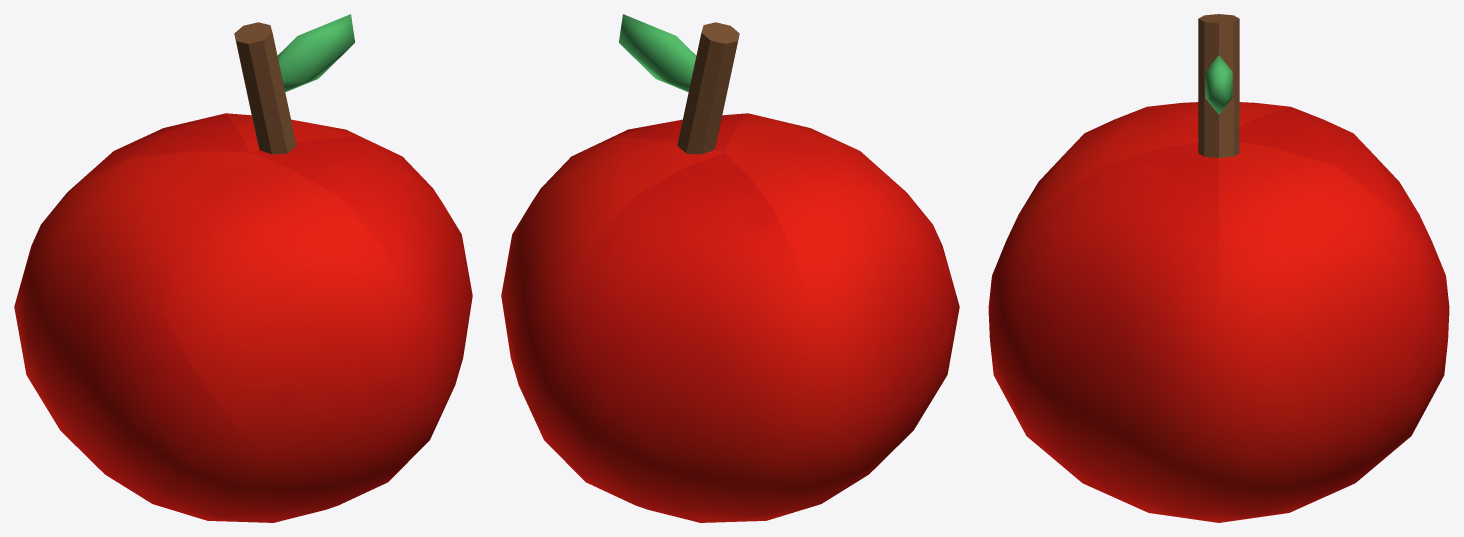
The model's file is apple.glb.
3 renders of one model, left to right at view 1: azimuth 30°, elevation 25°; view 2: azimuth 150°, elevation 25°; view 3: azimuth 270°, elevation 25°, orthographic. The views are drawn at different scales.
Visible parts, largest first — view 1: Apple_Body, Apple_Stem, Apple_Leaf; view 2: Apple_Body, Apple_Stem, Apple_Leaf; view 3: Apple_Body, Apple_Stem, Apple_Leaf.
Part boxes in pixels (bbox=[...]): Apple_Body: bbox=[14, 113, 472, 522]; Apple_Stem: bbox=[234, 22, 296, 154]; Apple_Leaf: bbox=[277, 14, 354, 92]; Apple_Body: bbox=[501, 113, 959, 522]; Apple_Stem: bbox=[677, 22, 739, 154]; Apple_Leaf: bbox=[619, 14, 696, 92]; Apple_Body: bbox=[988, 102, 1449, 522]; Apple_Stem: bbox=[1198, 14, 1239, 157]; Apple_Leaf: bbox=[1205, 55, 1232, 114].
Bounding box in the file's own units: 1.02 × 1.14 × 1.
Materials: 3 (1 with a texture image).
